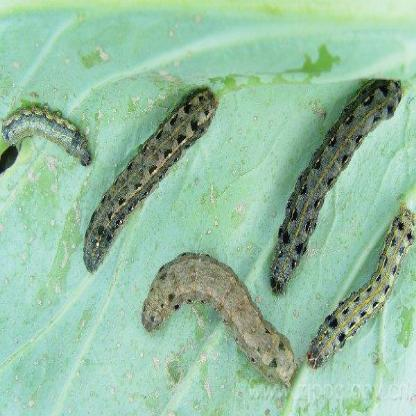armyworm: (251, 28, 411, 312), (62, 62, 233, 297), (297, 171, 416, 395), (140, 250, 300, 391), (0, 100, 94, 171)
